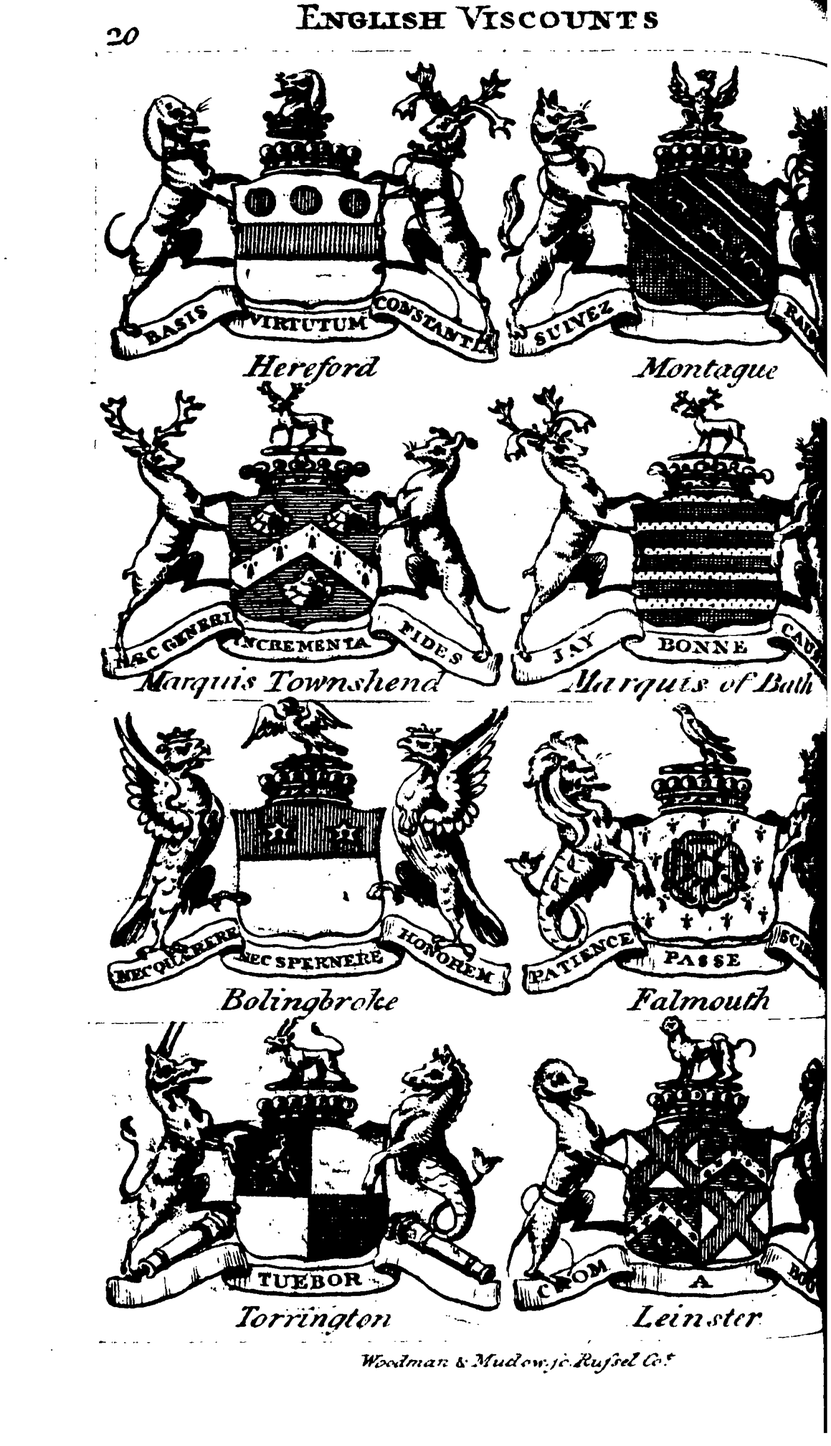coat_of_arms: (97, 58, 507, 386), (100, 697, 515, 1016), (99, 1010, 505, 1336), (97, 382, 503, 700), (496, 51, 831, 384), (494, 386, 831, 701), (509, 697, 831, 1016), (512, 1009, 824, 1336)
